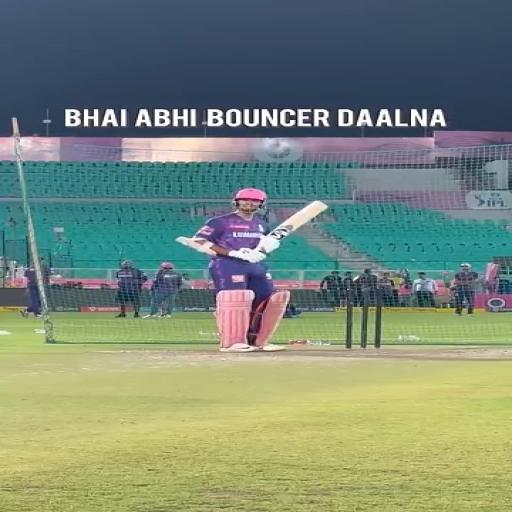Cricket bat: (267, 201, 326, 241)
